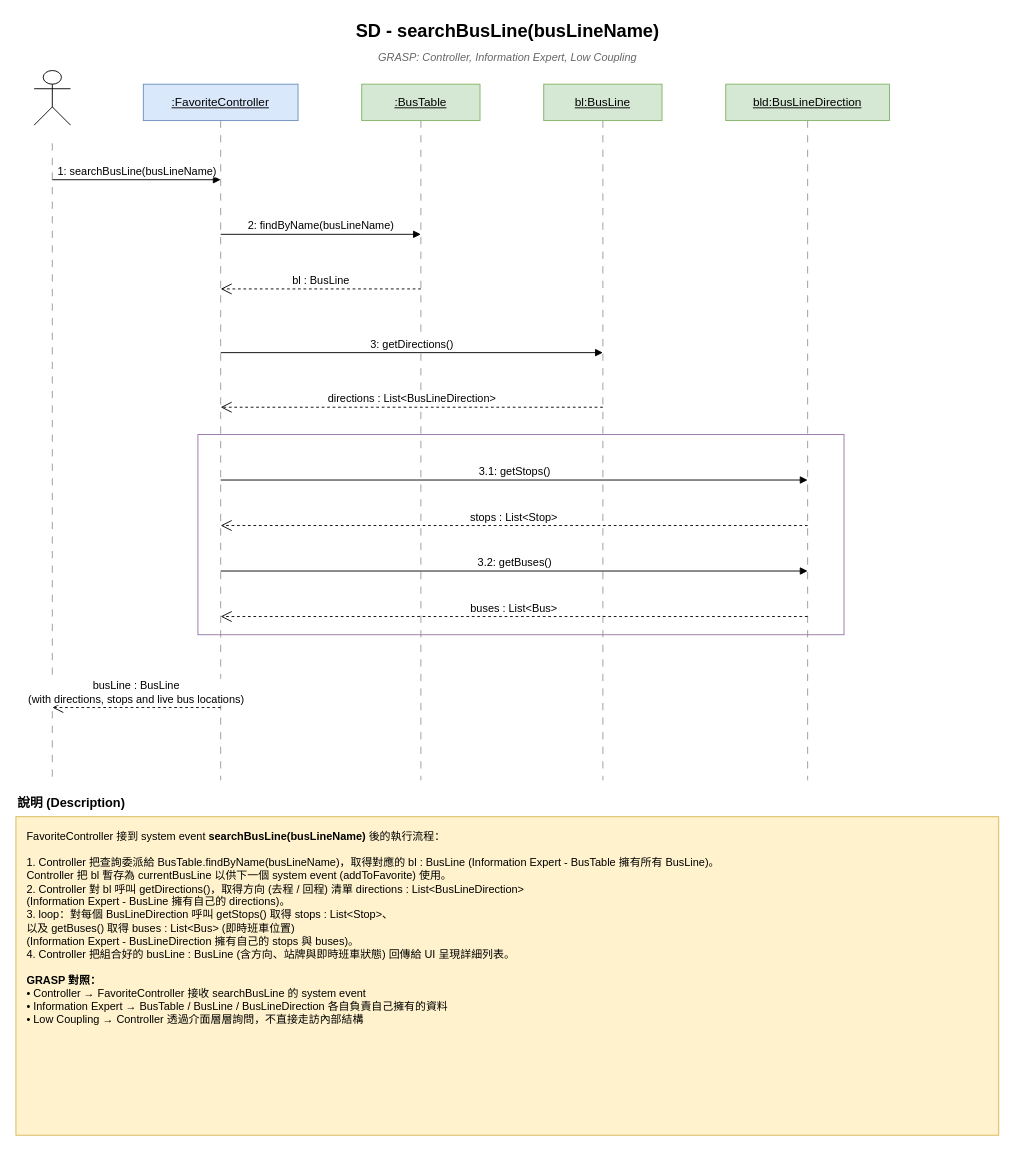
Image size: 1015x1151. Some labels were removed from this diagram. The centre of each missing label's shape, as x and y in pixels:
"loop [for each bld in directions]" belongs at point 520,534.
"User" belongs at point 52,97.
